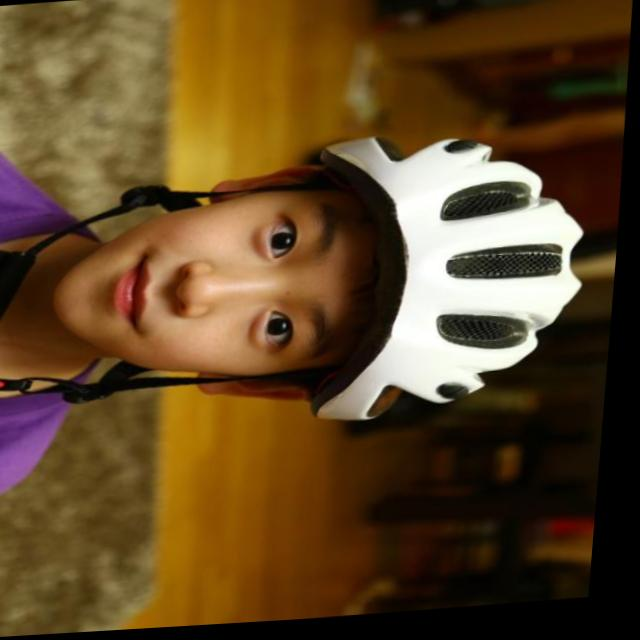WITH_HELMET: (295, 113, 606, 436)
